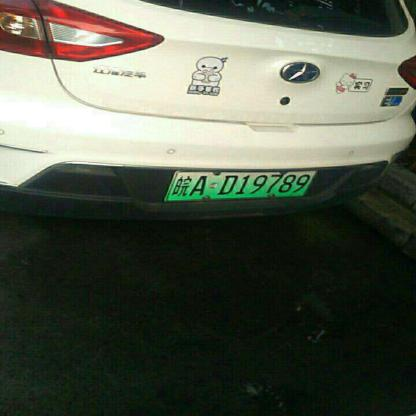lp: (165, 170, 313, 199)
